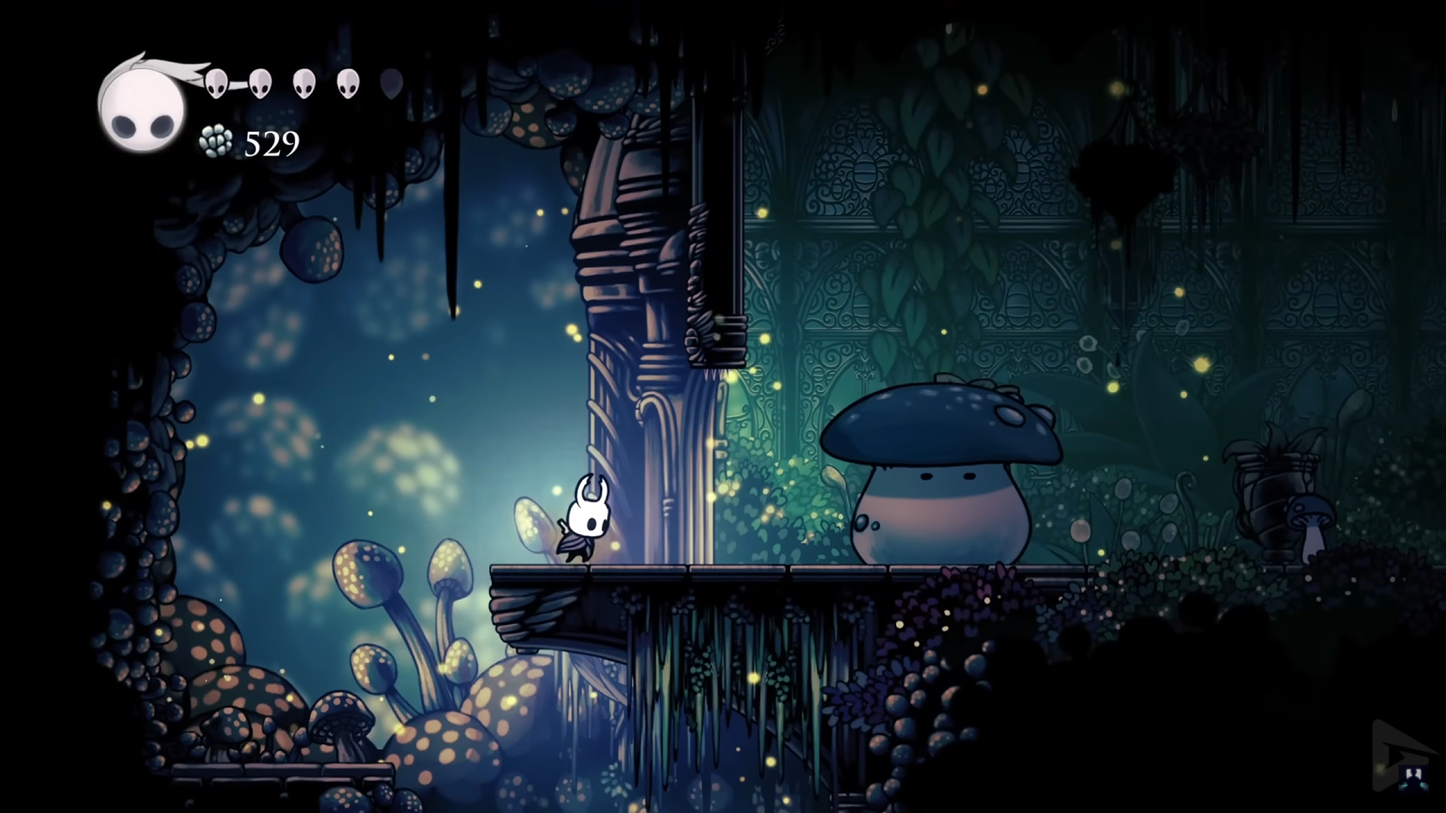HK: (551, 469, 620, 565)
